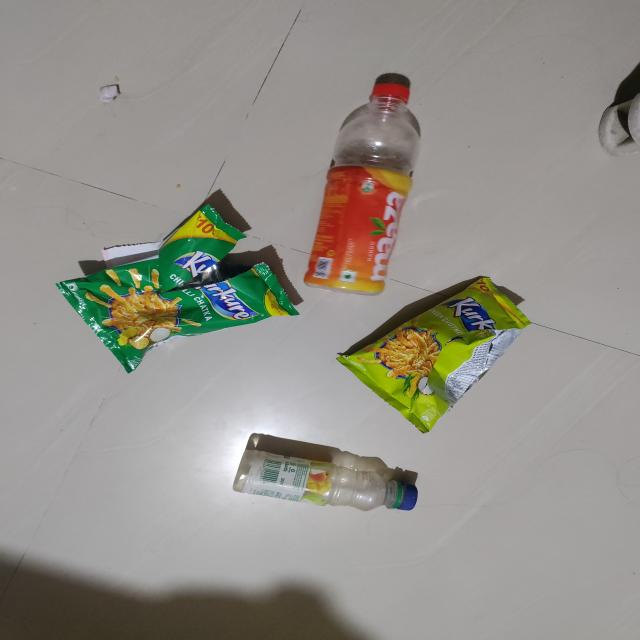dry: (43, 194, 309, 366), (285, 52, 443, 311), (335, 266, 519, 430), (201, 420, 442, 540)
